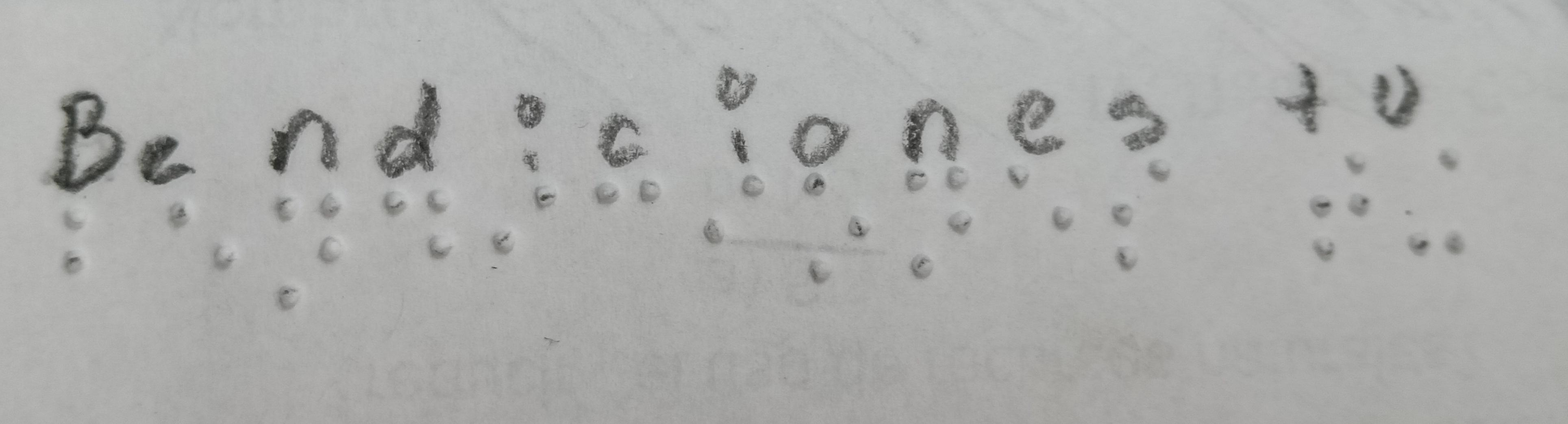b: (55, 203, 118, 276)
c: (585, 175, 677, 220)
d: (368, 177, 465, 268)
e: (992, 159, 1085, 248), (161, 199, 250, 278)
i: (486, 175, 557, 272), (693, 171, 766, 254)
n: (882, 163, 988, 287), (264, 187, 356, 313)
o: (779, 165, 874, 293)
s: (1087, 154, 1201, 276)
t: (1279, 150, 1396, 270)
u: (1398, 148, 1486, 268)
